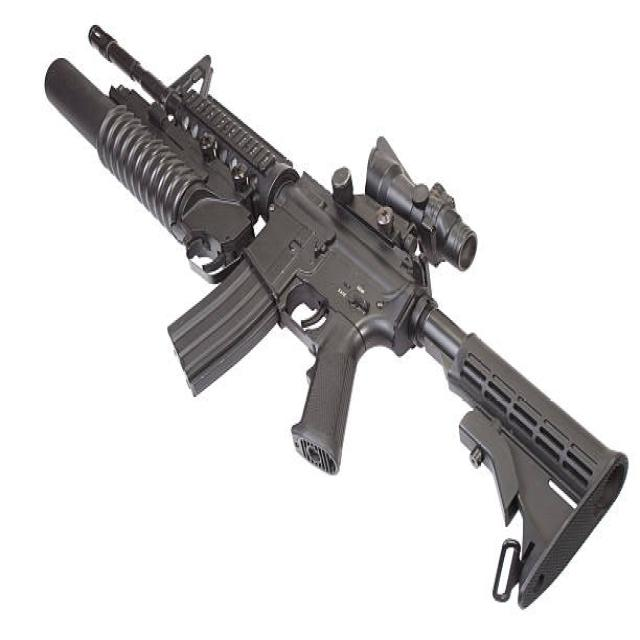rifle: (37, 16, 634, 616)
